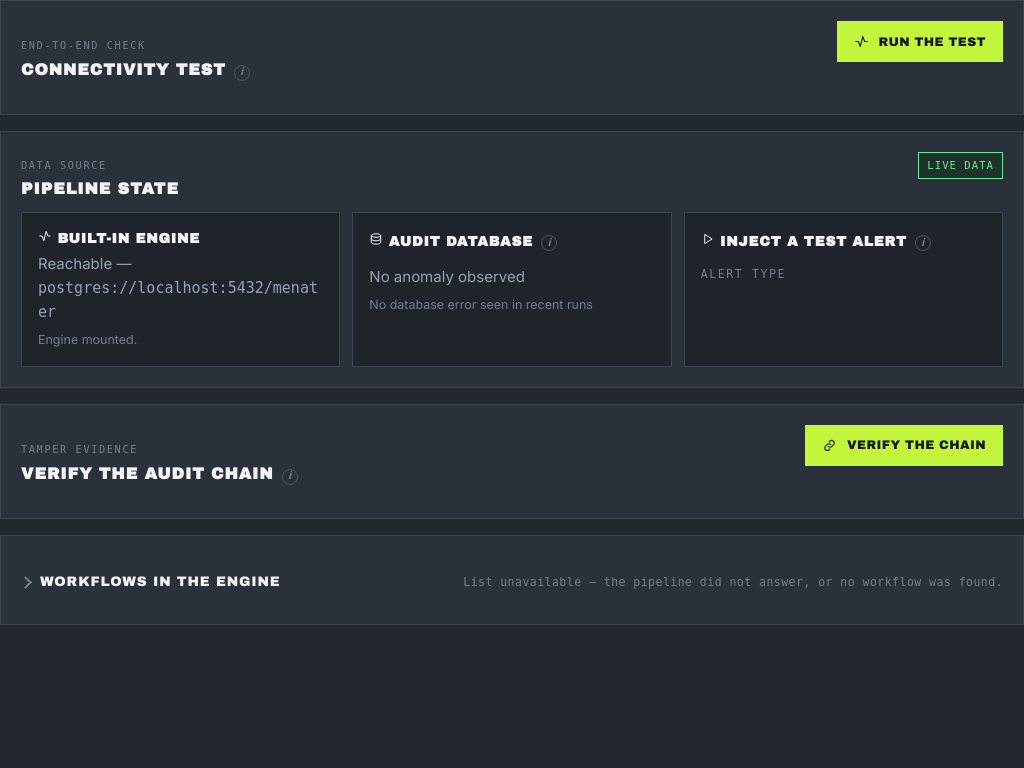
Test case: what the screen owes the person who pressed › announces the answer, politely, in a region that already existed
The width and height of the screenshot is (1024, 768).
Click the button "Verify the chain" at (904, 446), box [805,425,1003,466]
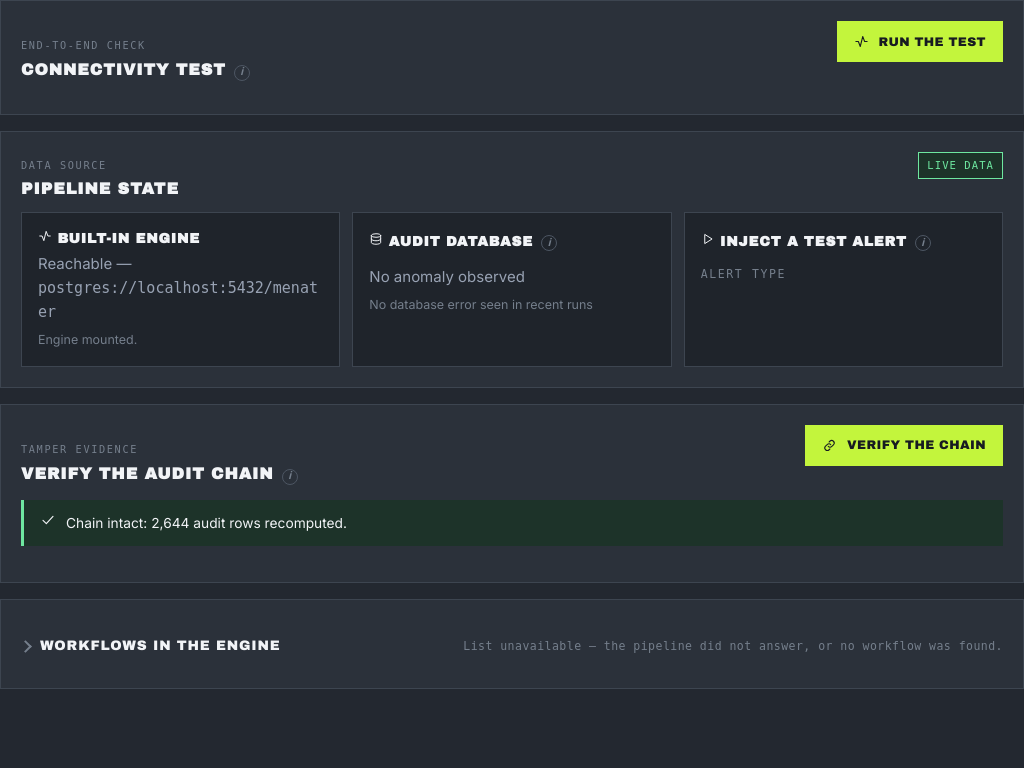
Check: the text "Chain intact: 2,644 audit rows recomputed." is shown, box [21,500,1003,546]
